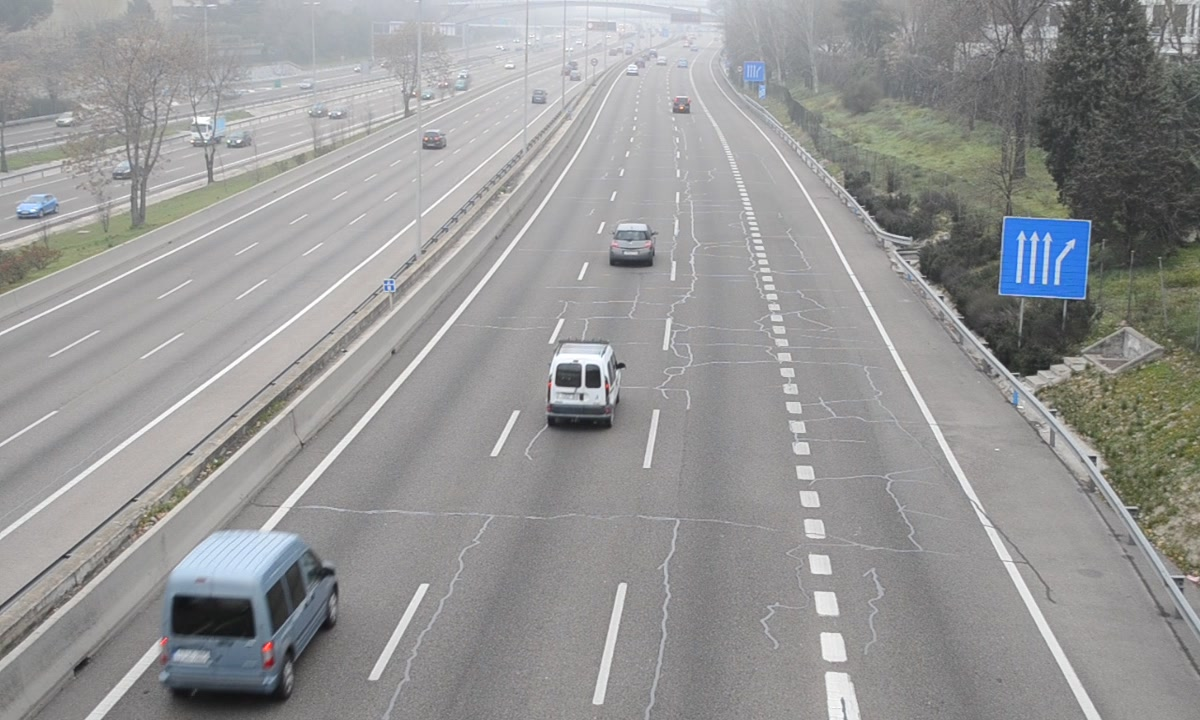car: (609, 222, 654, 265)
van: (160, 532, 338, 693), (546, 342, 618, 423)
